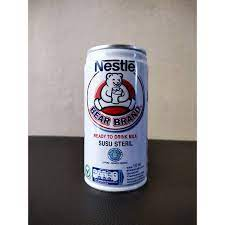metal: (81, 43, 150, 193)
